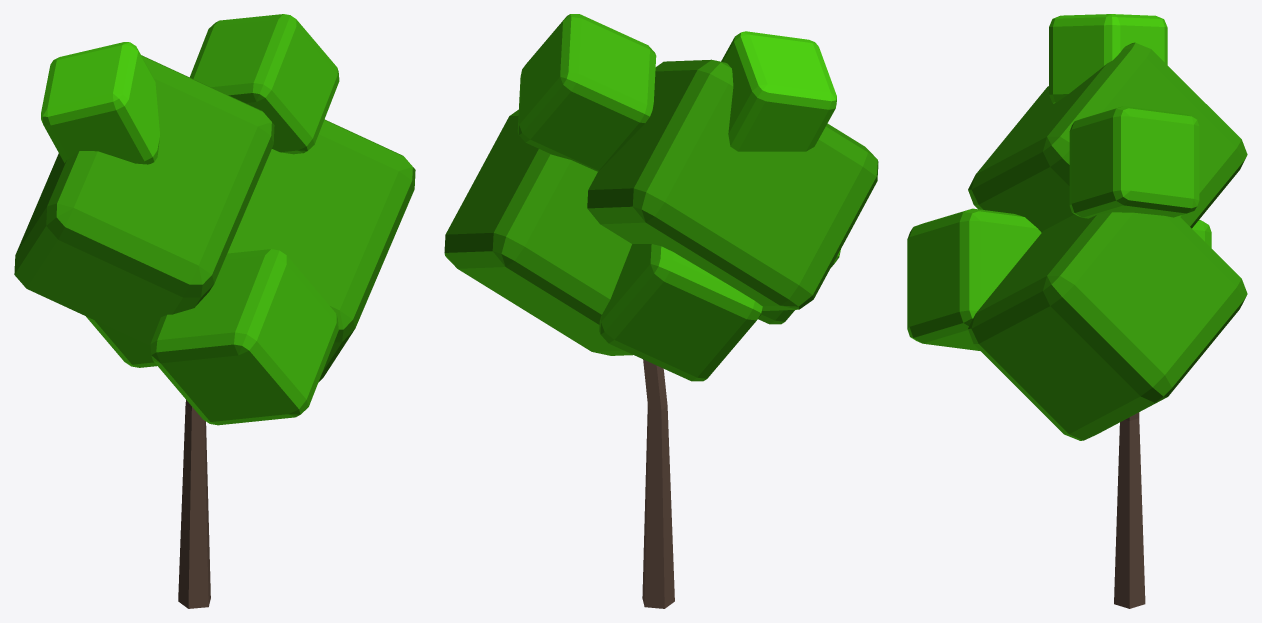
Rendered from treeSet_green3.dae.
The picture shows the model from 3 angles, left to right: view 1: azimuth 30°, elevation 25°; view 2: azimuth 150°, elevation 25°; view 3: azimuth 270°, elevation 25°; orthographic projection. The views are drawn at different scales.
Parts seen in each view (by area): view 1: leaves (×6), bark; view 2: leaves (×5), bark; view 3: leaves (×5), bark.
Boxes of the visible parts, x1=… form: leaves (×6): x1=14, y1=14, x2=415, y2=425; bark: x1=178, y1=400, x2=210, y2=608; leaves (×5): x1=444, y1=14, x2=878, y2=381; bark: x1=642, y1=359, x2=674, y2=608; leaves (×5): x1=907, y1=14, x2=1247, y2=440; bark: x1=1114, y1=412, x2=1145, y2=608.
Size of the model in its own units: 763 by 1108 by 621.
Materials: 1 (1 with a texture image).
